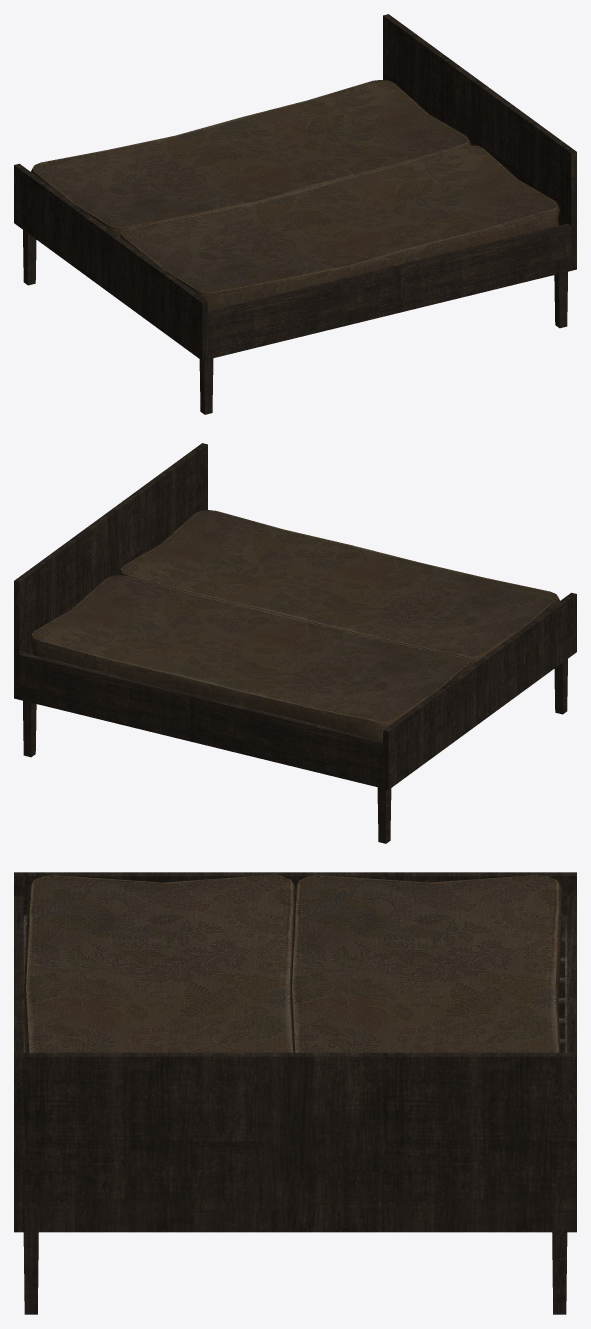
The model's file is bed_4_2.dae.
The picture shows the model from 3 angles, top to bottom: view 1: azimuth 30°, elevation 25°; view 2: azimuth 150°, elevation 25°; view 3: azimuth 270°, elevation 25°; orthographic projection. The views are drawn at different scales.
Parts seen in each view (by area): view 1: bed_4_2; view 2: bed_4_2; view 3: bed_4_2.
Part boxes in pixels (x1,y1,x2,y2): bed_4_2: (14,14,576,414); bed_4_2: (14,443,576,843); bed_4_2: (14,872,576,1314).
Bounding box in the file's own units: 2.7 × 2.35 × 1.21.
3 materials, 3 textured.
